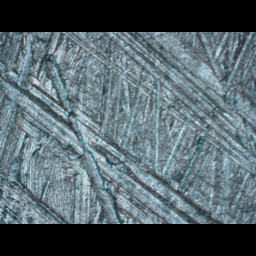d: (0, 77, 236, 223), (64, 31, 255, 178), (0, 167, 70, 223)
